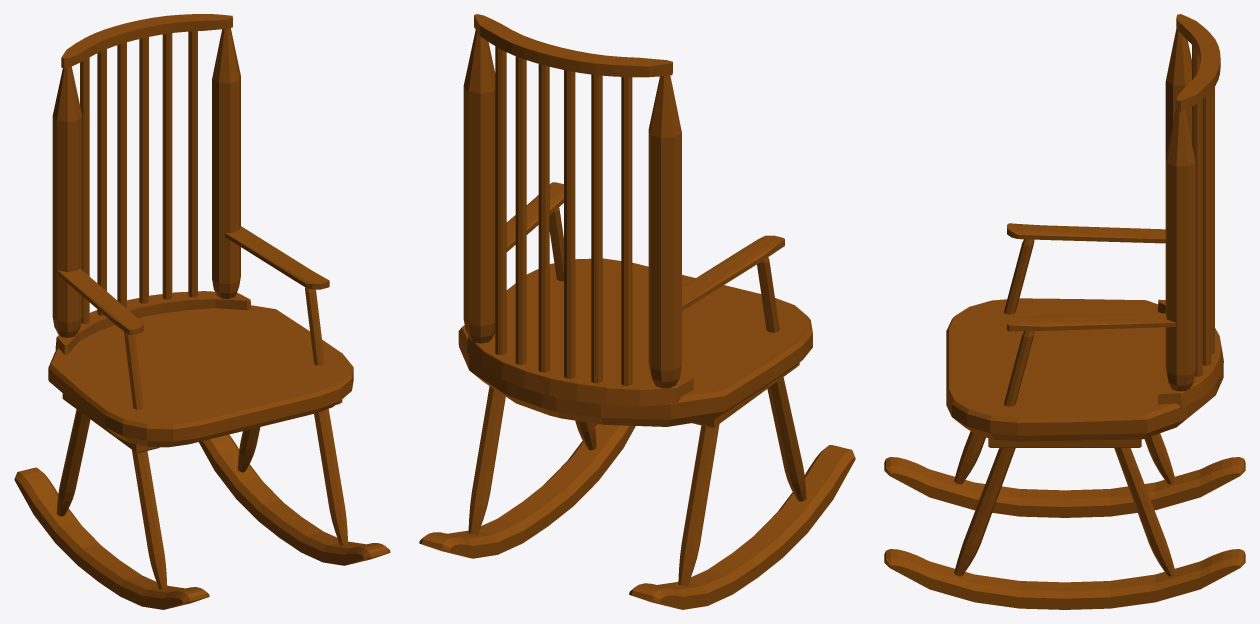
Rendered from Chaise_a_bascule.fbx.
3 views of the same model, side by side, from view 1: azimuth 30°, elevation 25°; view 2: azimuth 150°, elevation 25°; view 3: azimuth 270°, elevation 25° (orthographic). The views are drawn at different scales.
Parts seen in each view (by area): view 1: Cube.002, Cube.005, Cylinder, Cube, Cube.001, Cube.004, Cube.003; view 2: Cube.005, Cube.002, Cylinder, Cube, Cube.001, Cube.004, Cube.003; view 3: Cube.002, Cube, Cube.005, Cube.001, Cylinder, Cube.004, Cube.003.
Boxes of the visible parts, box(x1,y1,x2,y2) form: Cube.002: box(48, 305, 353, 447); Cube.005: box(52, 14, 250, 354); Cylinder: box(80, 31, 197, 323); Cube: box(14, 434, 390, 609); Cube.001: box(56, 393, 348, 589); Cube.004: box(57, 226, 329, 335); Cube.003: box(124, 287, 324, 409); Cube.005: box(463, 14, 693, 406); Cube.002: box(458, 258, 812, 426); Cylinder: box(495, 46, 632, 385); Cube: box(419, 423, 855, 609); Cube.001: box(468, 363, 806, 586); Cube.004: box(506, 182, 784, 310); Cube.003: box(549, 207, 779, 332); Cube.002: box(946, 298, 1223, 441); Cube: box(884, 457, 1245, 609); Cube.005: box(1158, 14, 1223, 407); Cube.001: box(954, 431, 1175, 576); Cylinder: box(1192, 45, 1214, 376); Cube.004: box(1007, 223, 1175, 331); Cube.003: box(1004, 239, 1034, 406).
Size of the model in its own units: 160 by 305 by 200.
